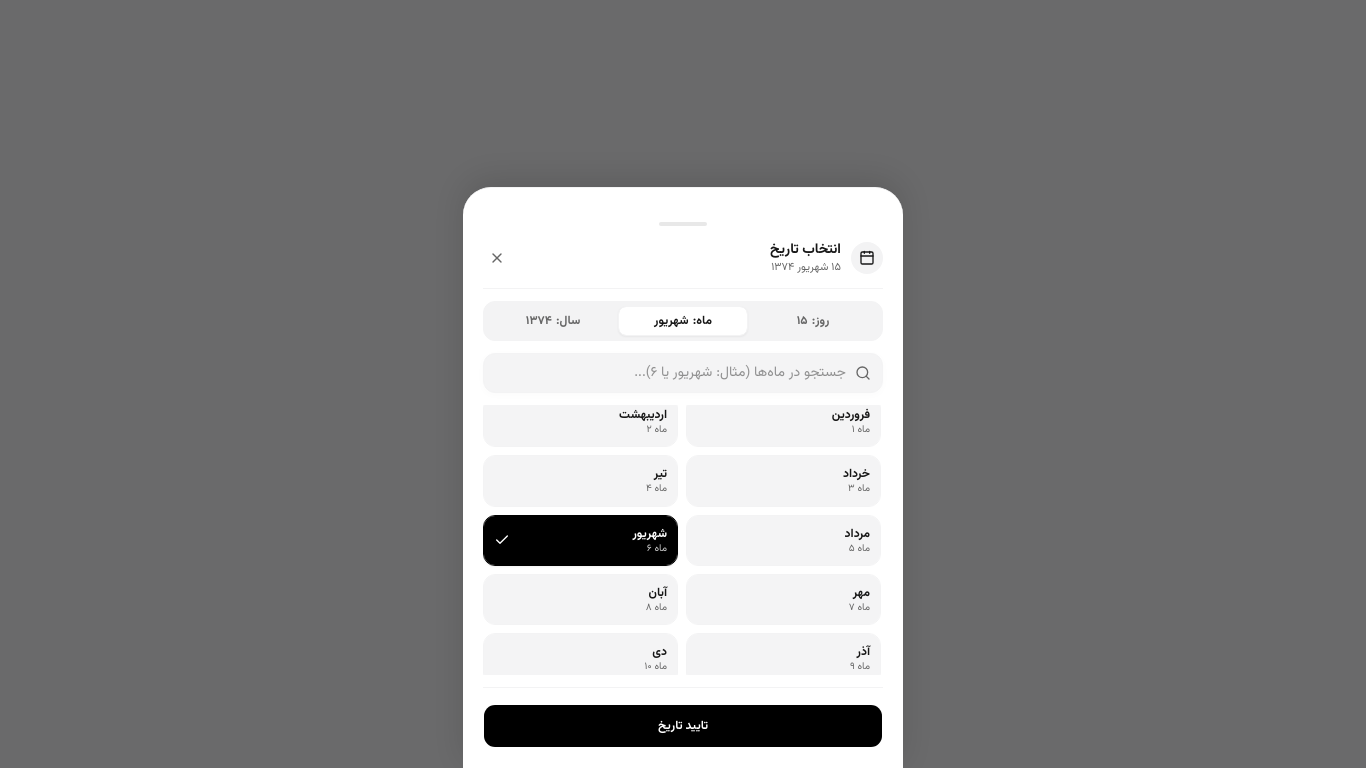
Scenario: PersianDatePickerDrawer › filters items in the active tab with search input and supports clear button
The image size is (1366, 768).
(page scrolled)
Type "اسفند" into the search field named "جستجوی روز، ماه یا سال" at x=683, y=373, box [483,353,883,393]
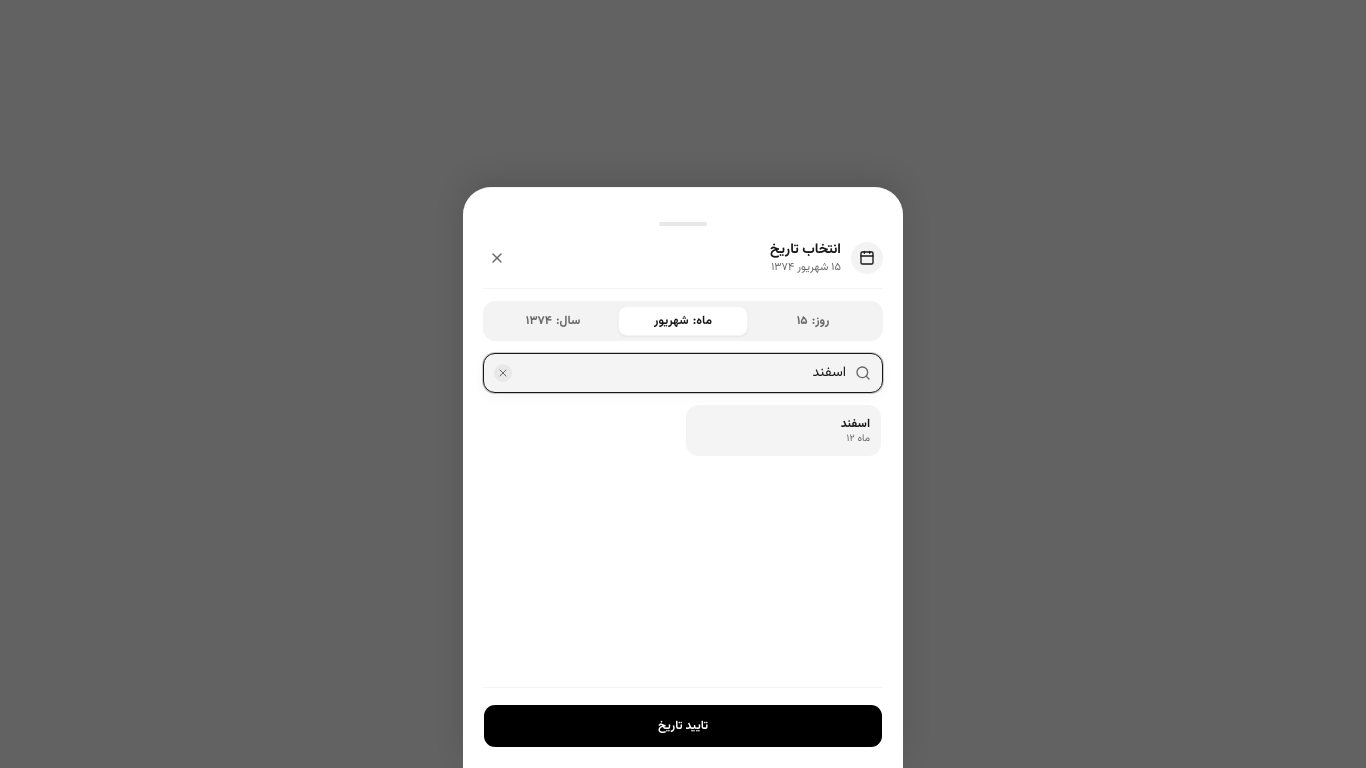
Expected: the button with aria-label "ماه اسفند" is shown, [686,405,881,456]
Click the button named "پاک کردن جستجو" at x=503, y=373, box [493,363,513,383]
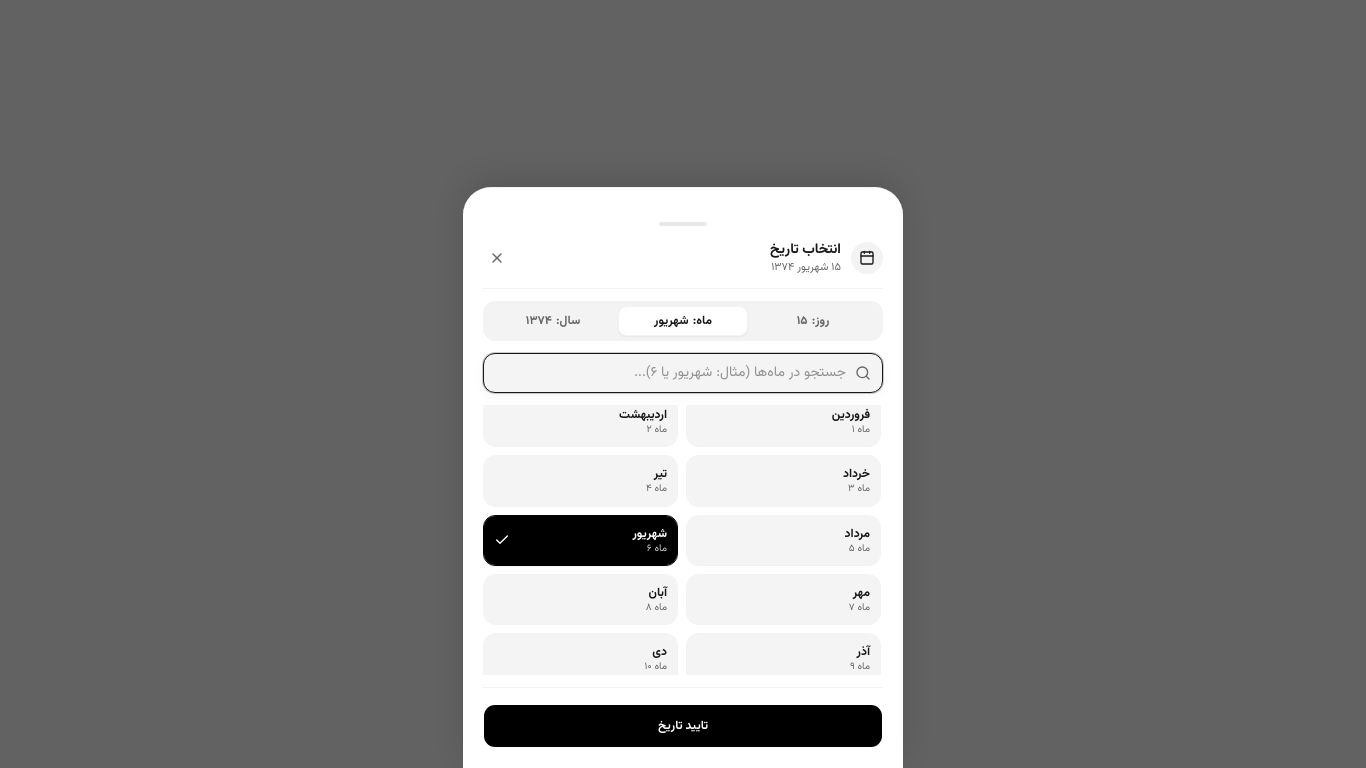
Expected: the search field named "جستجوی روز، ماه یا سال" is empty, [483,353,883,393]
Expected: the button with aria-label "ماه فروردین" is shown, [686,405,881,447]
